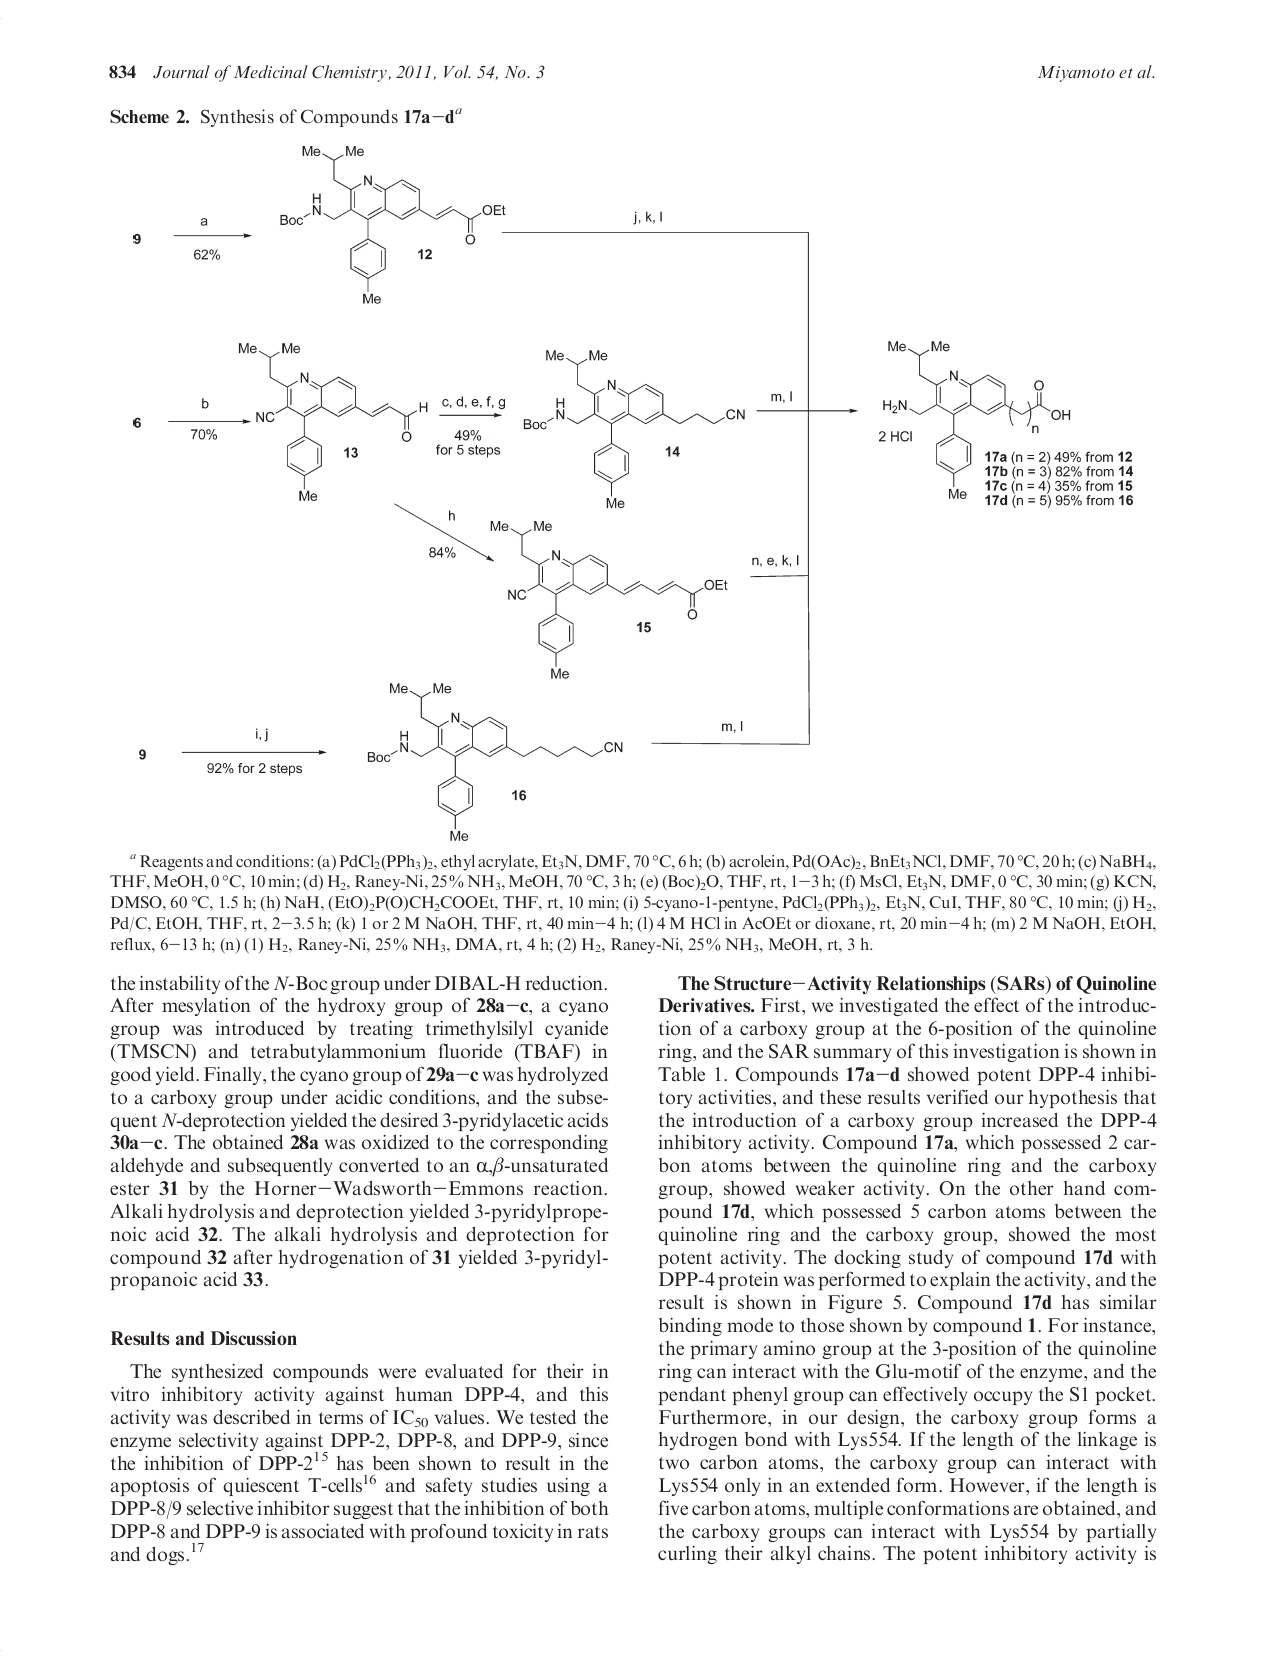exist_molecular: (364, 672, 628, 846), (485, 517, 730, 680), (277, 142, 507, 307), (521, 346, 749, 509), (234, 338, 432, 501), (874, 336, 1071, 500)
